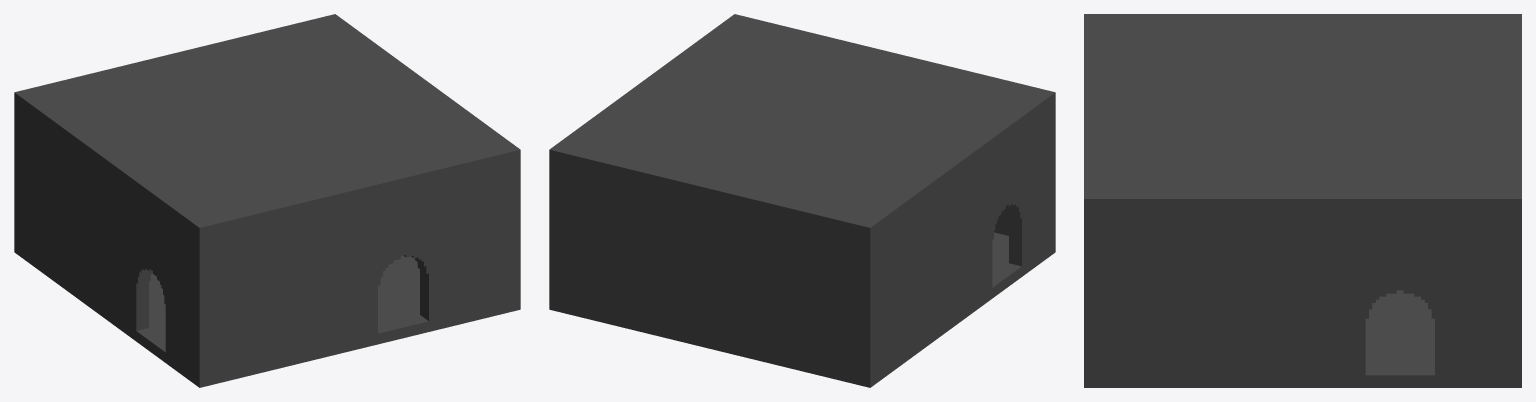
The model's file is Area6.obj.
3 views of the same model, side by side, from view 1: azimuth 30°, elevation 25°; view 2: azimuth 150°, elevation 25°; view 3: azimuth 270°, elevation 25° (orthographic). The views are drawn at different scales.
Size of the model in its own units: 126 by 60 by 126.
1 material, 1 textured.
